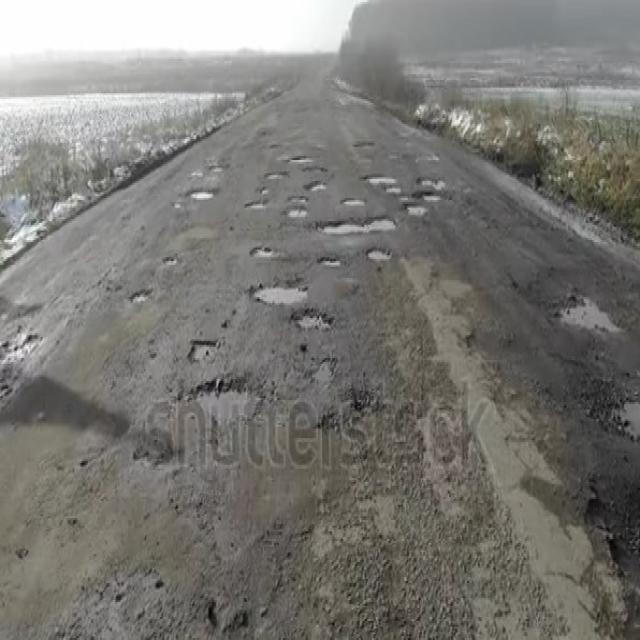pothole: (183, 373, 281, 426), (553, 289, 619, 342), (318, 213, 401, 236), (246, 283, 318, 307), (612, 398, 640, 451), (188, 332, 224, 361), (291, 309, 335, 332), (315, 248, 352, 273), (365, 244, 394, 267), (129, 286, 154, 311), (251, 245, 284, 261), (156, 251, 181, 263)
